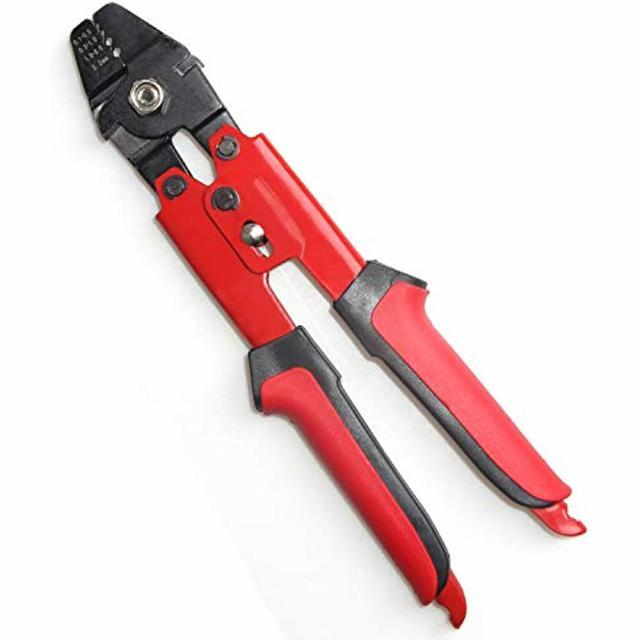pliers: (65, 1, 590, 635)
